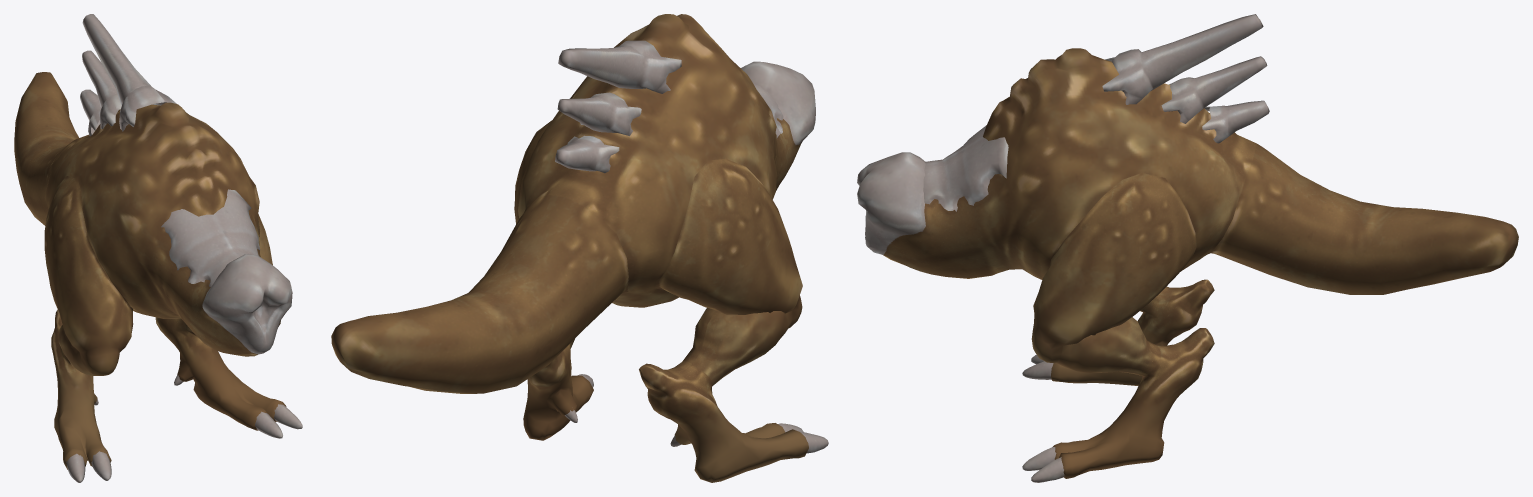
Rendered from monsterA+.fbx.
The picture shows the model from 3 angles, left to right: view 1: azimuth 30°, elevation 25°; view 2: azimuth 150°, elevation 25°; view 3: azimuth 270°, elevation 25°; orthographic projection. The views are drawn at different scales.
Visible parts, largest first — view 1: monsterA_lp; view 2: monsterA_lp; view 3: monsterA_lp.
Part boxes in pixels (x1,y1,x2,y2): monsterA_lp: [14, 14, 302, 482]; monsterA_lp: [331, 14, 828, 482]; monsterA_lp: [857, 14, 1518, 482].
Size of the model in its own units: 69.16 by 159 by 108.
